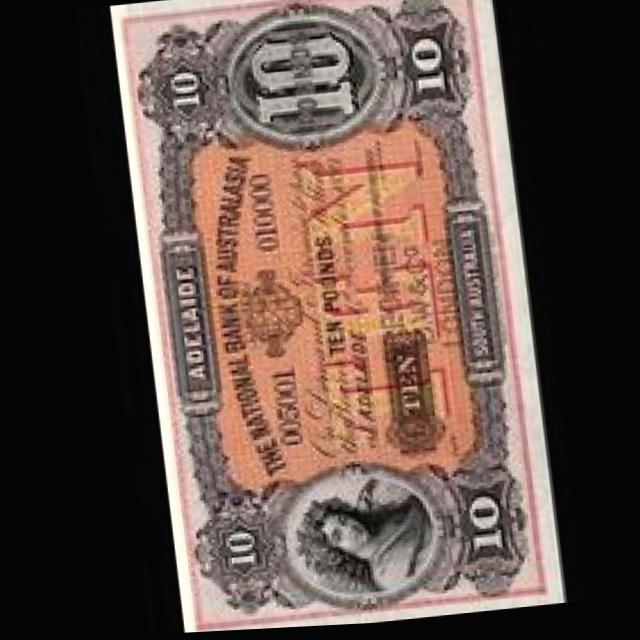banknote: (109, 0, 559, 636)
